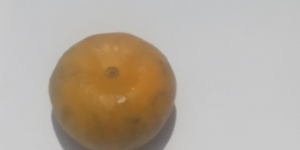BAD: (50, 32, 179, 150)
